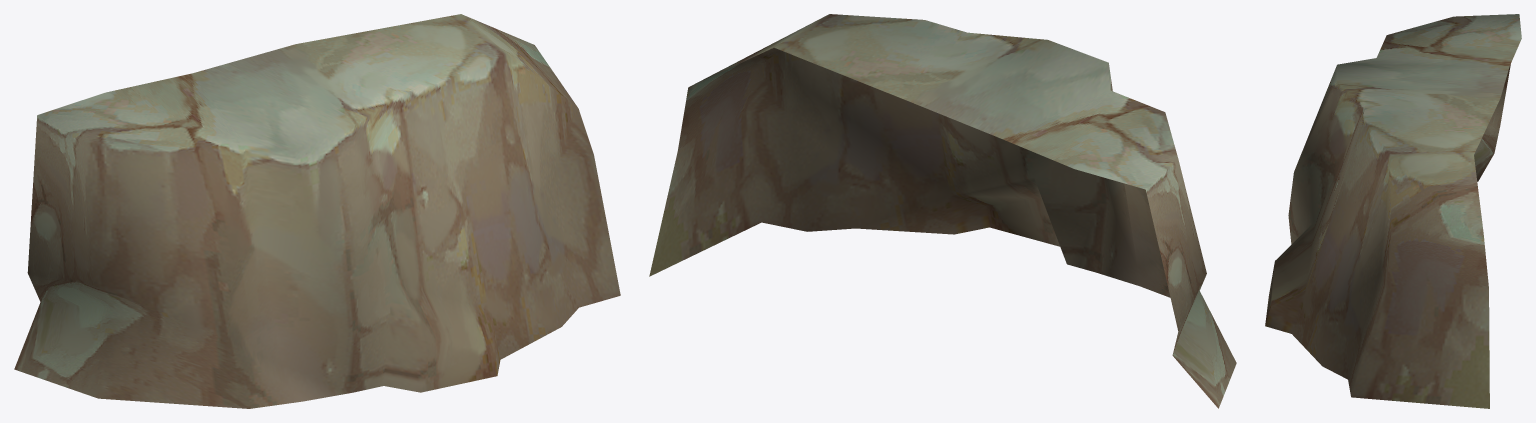
File: Map_08_stone03.FBX
3 renders of one model, left to right at view 1: azimuth 30°, elevation 25°; view 2: azimuth 150°, elevation 25°; view 3: azimuth 270°, elevation 25°, orthographic. The views are drawn at different scales.
Visible parts, largest first — view 1: Map_08_stone03; view 2: Map_08_stone03; view 3: Map_08_stone03.
Boxes of the visible parts, box(x1,y1,x2,y2) form: Map_08_stone03: box(14, 14, 620, 408); Map_08_stone03: box(649, 14, 1236, 408); Map_08_stone03: box(1265, 14, 1521, 408).
Size of the model in its own units: 373 by 178 by 159.
